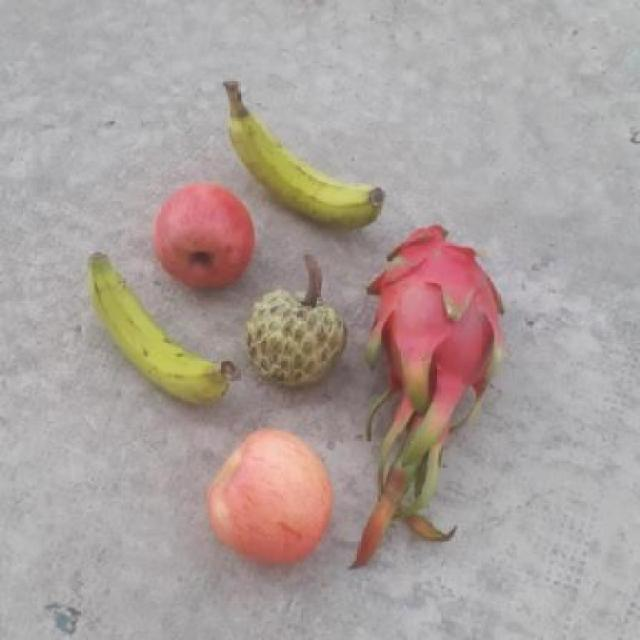apple: (211, 420, 343, 562), (142, 177, 264, 288)
banana: (83, 250, 231, 408), (232, 100, 382, 238)
dragon fruit: (363, 223, 505, 414)
sugar apple: (246, 284, 346, 396)
